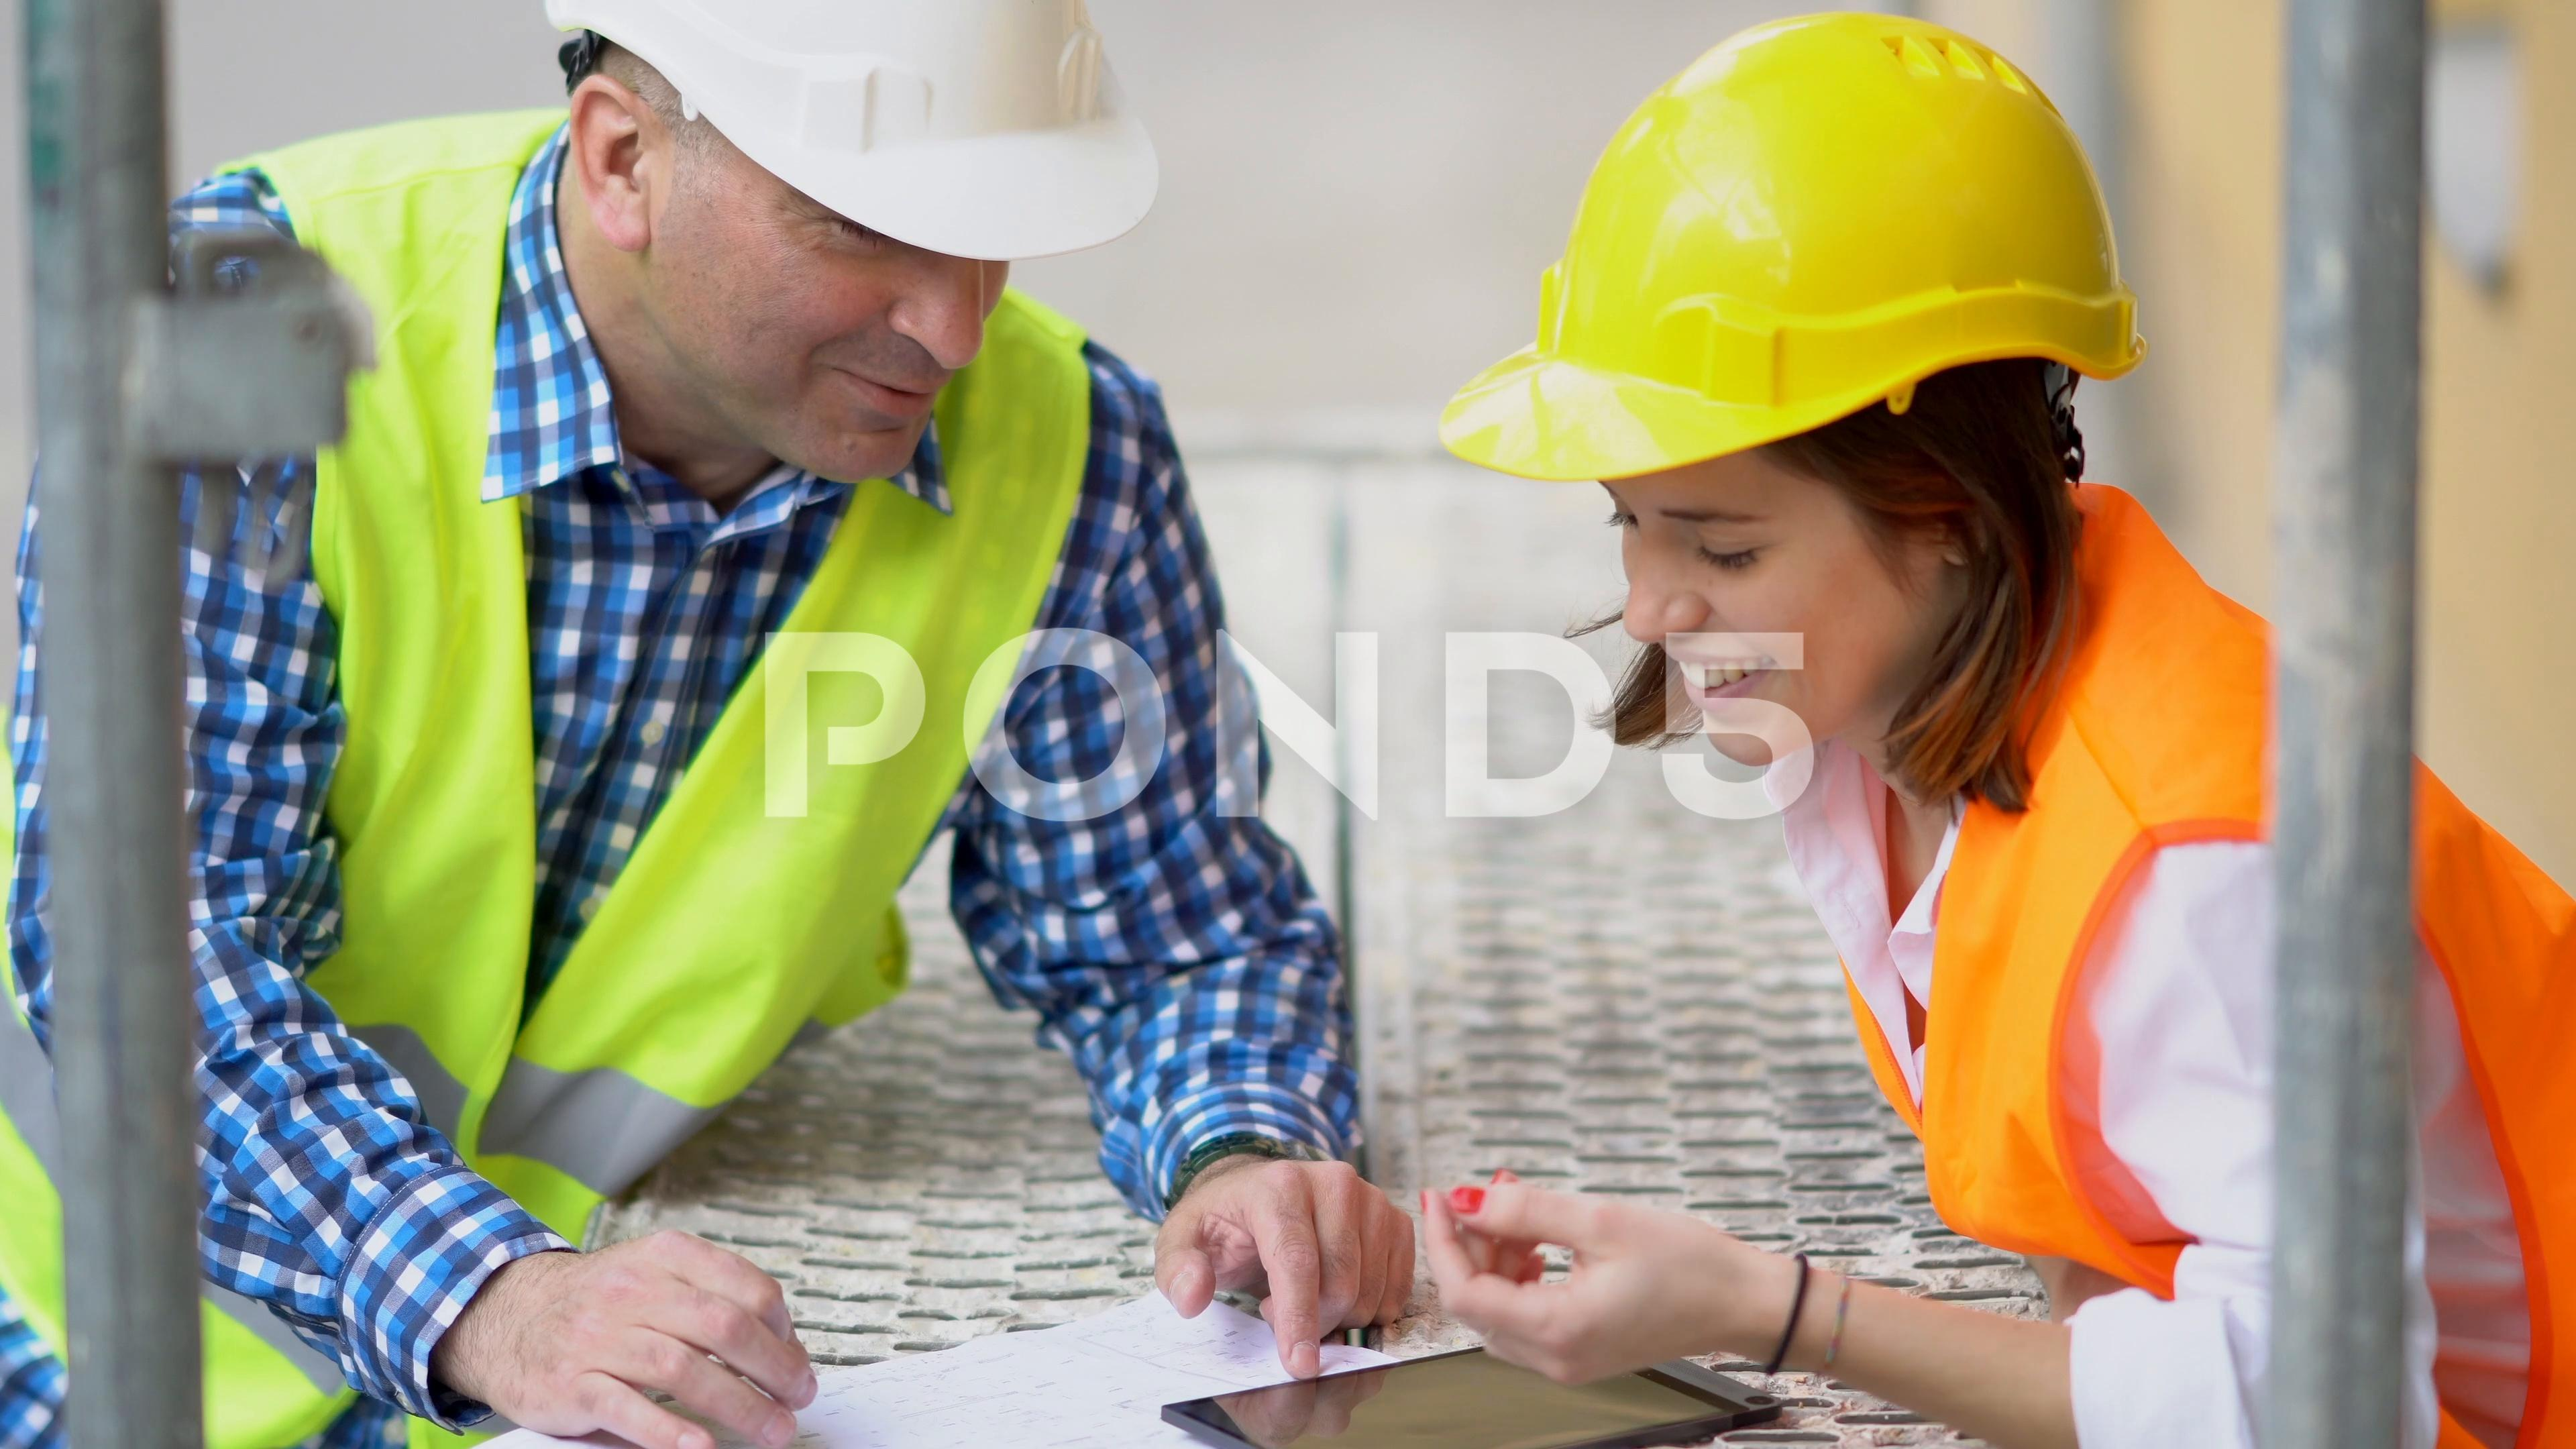hat: (487, 0, 1295, 571), (1410, 4, 2164, 609)
vest: (0, 64, 1178, 1449), (1752, 419, 2576, 1449)
